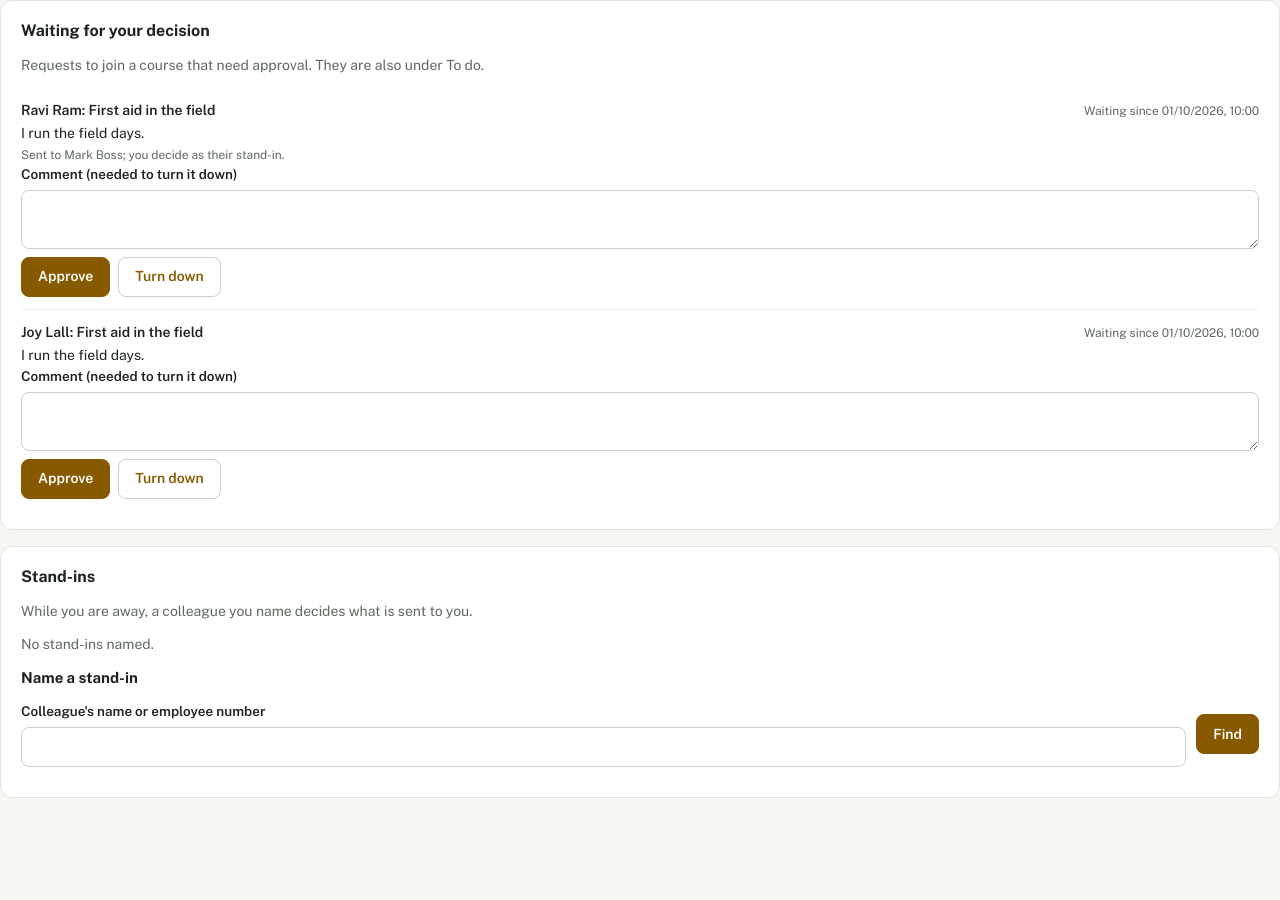
Test: approvals (item 5.02) › approves a request, and turns one down only with a reason, putting the request from To do first
Expected: the number of list items is 2, [21, 88, 1259, 309]; [21, 309, 1259, 511]
Expected: the list item that starts with "Ravi Ram" shows "Ravi Ram: First aid in the field", [21, 88, 1259, 309]
Click the button with aria-label "Turn down: Ravi Ram, First aid in the field": (170, 277) [118, 257, 221, 297]
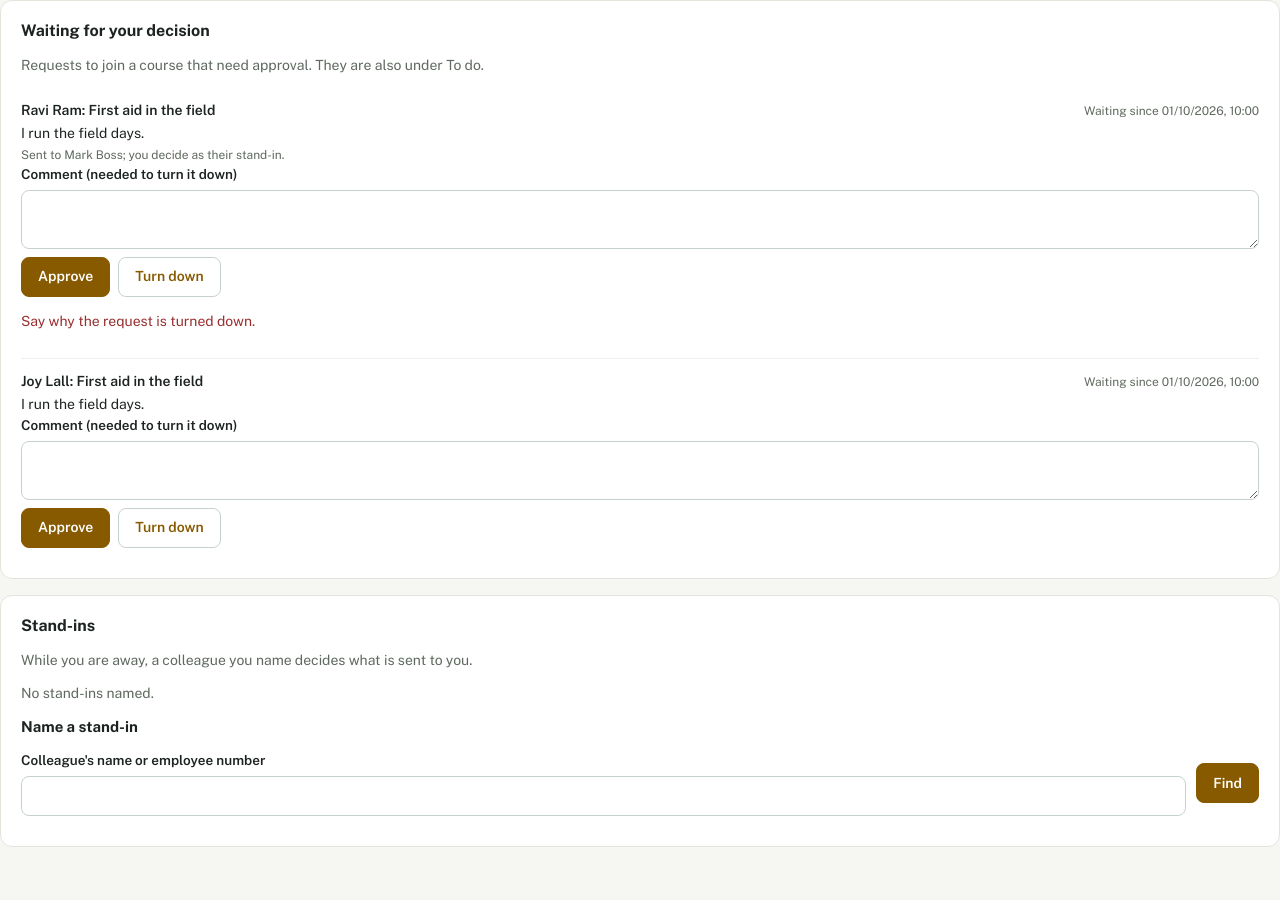
Expected: the message reads "Say why the request is turned down.", [21, 313, 255, 329]
Click the button with aria-label "Approve: Joy Lall, First aid in the field": (66, 528) [21, 508, 110, 548]
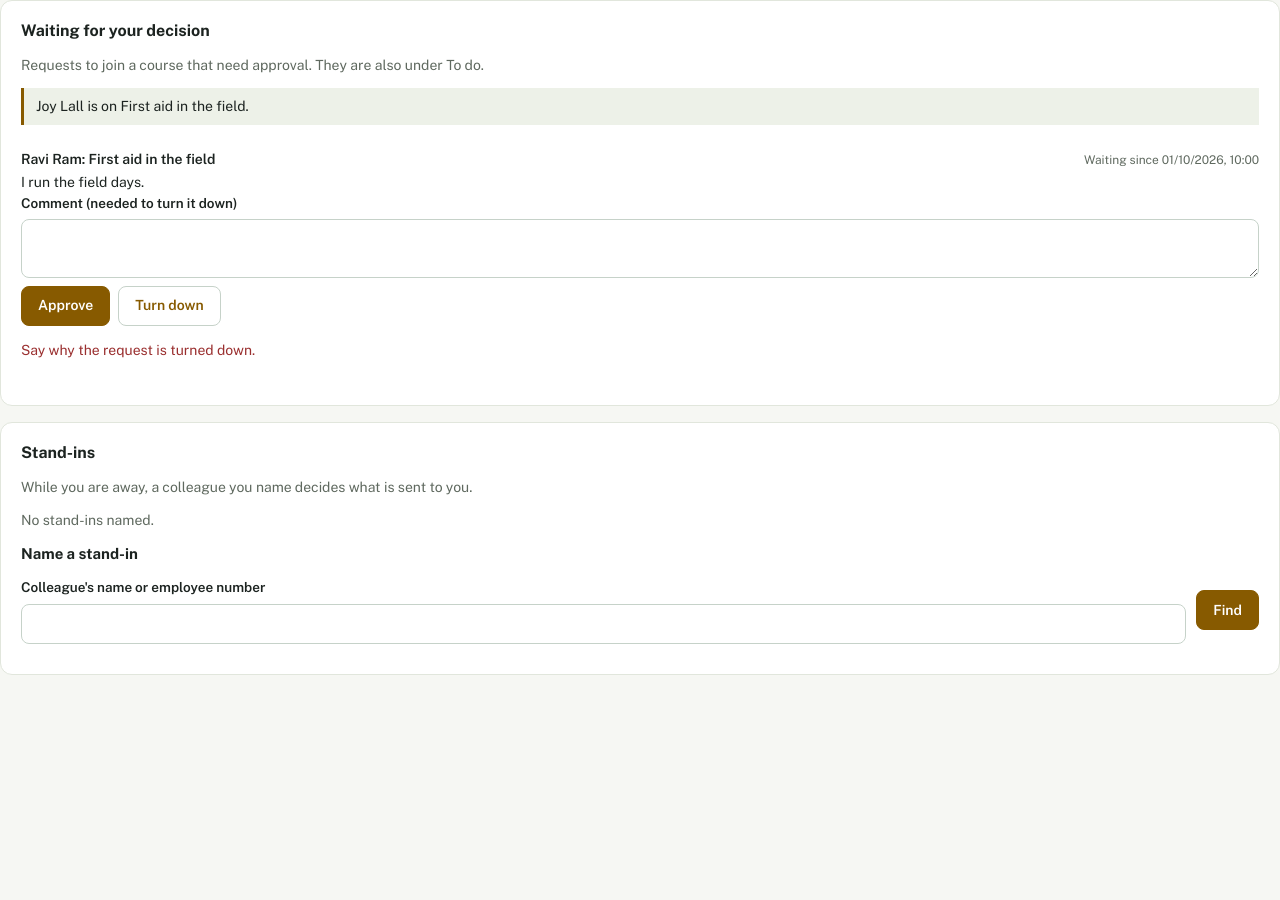
Expected: the message "Joy Lall is on First aid in the field." is shown, [21, 88, 1259, 125]
In the text box labelled "Comment (needed to turn it down)": (640, 249) [21, 219, 1259, 278], type "Full this term."
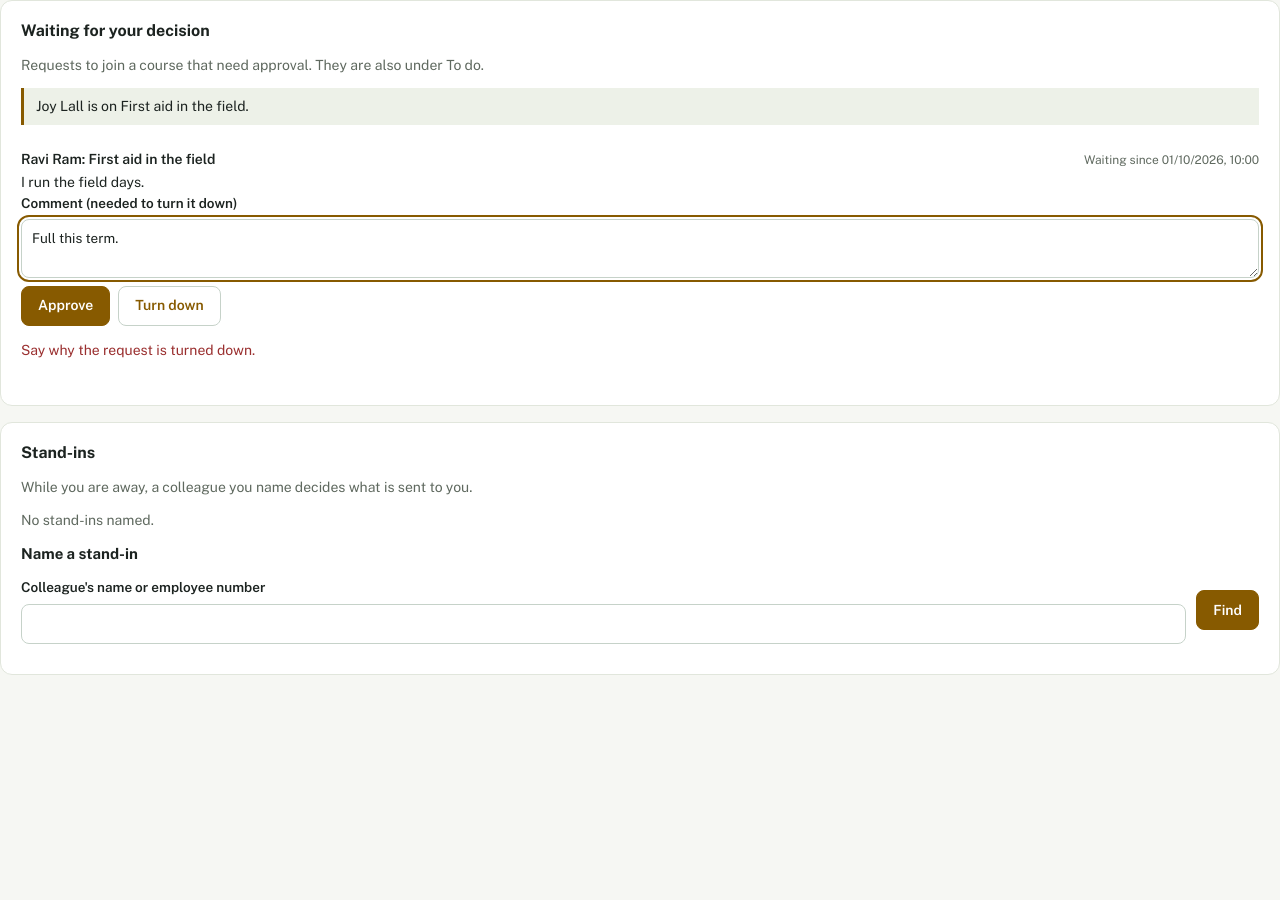
Click the button "Turn down": (170, 306) [118, 286, 221, 326]
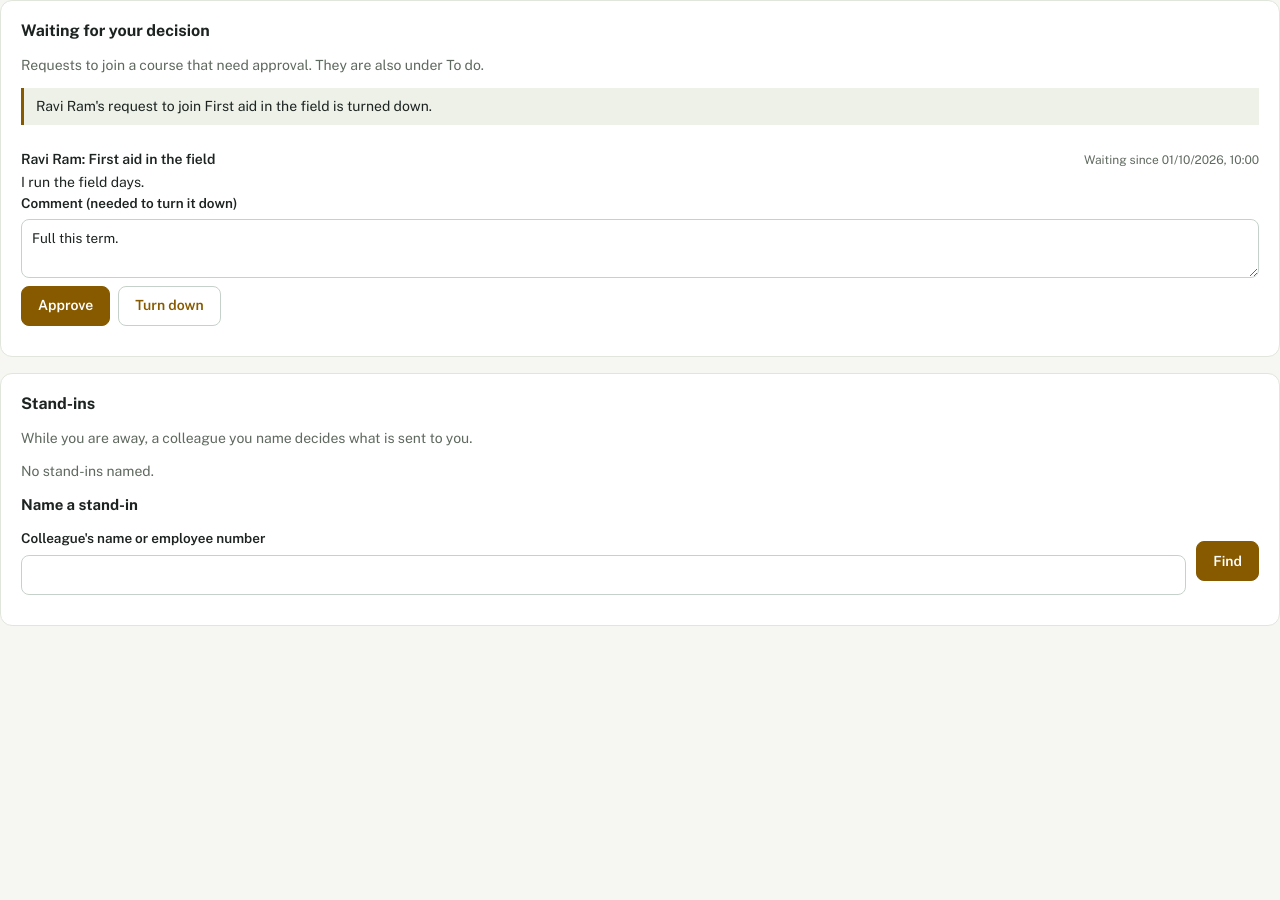
Expected: the text "Ravi Ram's request to join First aid in the field is turned down." is shown, [21, 88, 1259, 125]
